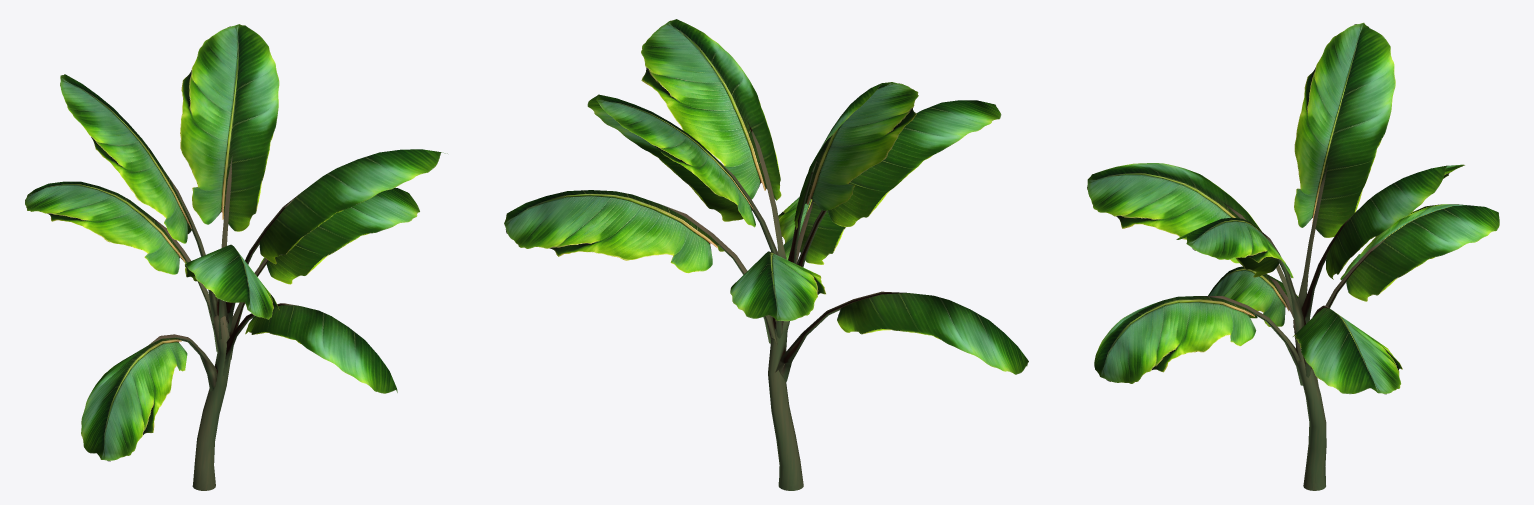
Rendered from tree4.fbx.
The picture shows the model from 3 angles, left to right: view 1: azimuth 30°, elevation 25°; view 2: azimuth 150°, elevation 25°; view 3: azimuth 270°, elevation 25°; orthographic projection. The views are drawn at different scales.
Visible parts, largest first — view 1: SM_MZRa_Banana_B091; view 2: SM_MZRa_Banana_B091; view 3: SM_MZRa_Banana_B091.
Boxes of the visible parts, <box> form: SM_MZRa_Banana_B091: <box>25,24,447,490</box>; SM_MZRa_Banana_B091: <box>504,19,1028,490</box>; SM_MZRa_Banana_B091: <box>1087,22,1499,490</box>.
Size of the model in its own units: 286 by 272 by 266.
